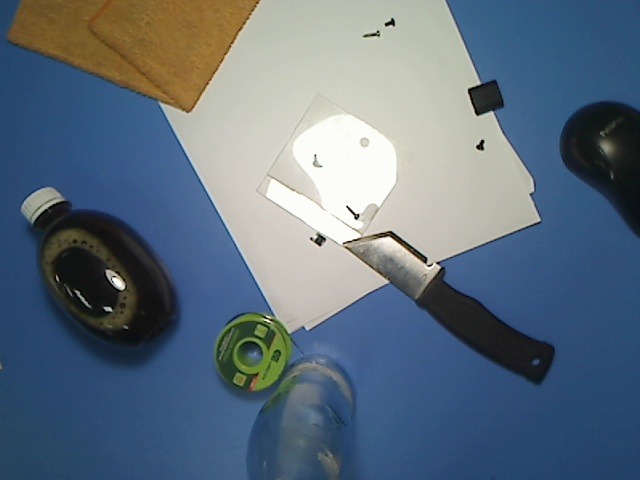plast_bottle: (17, 179, 184, 352)
